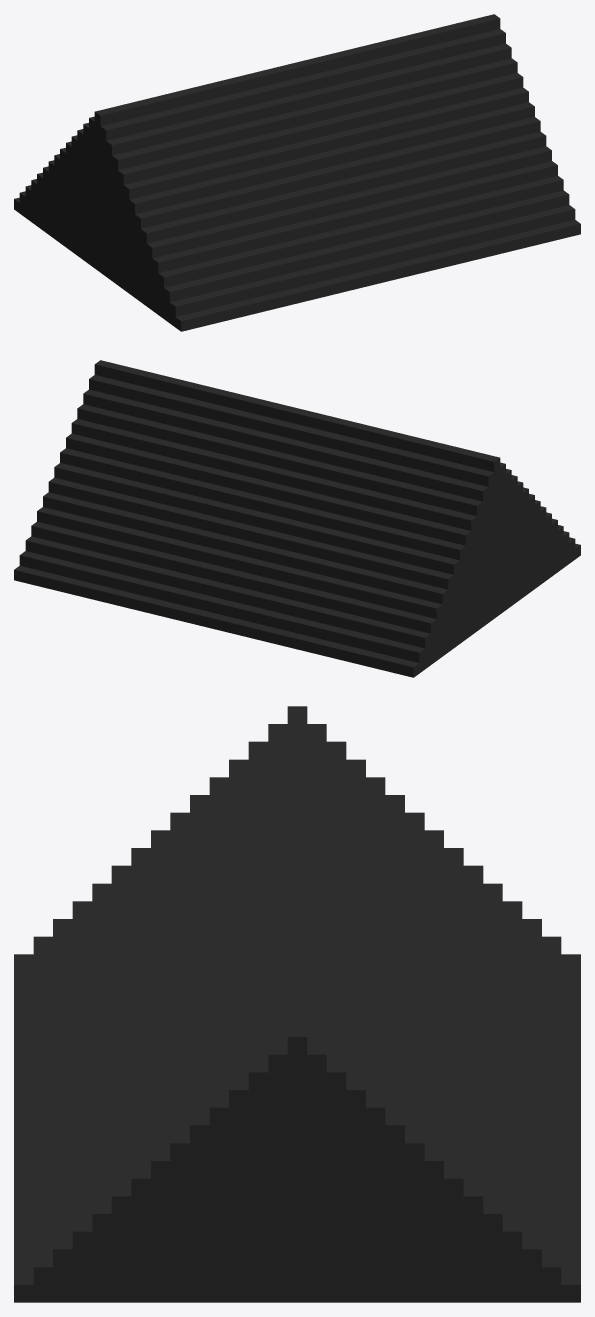
File: ConstructionMaterials-21.obj
The picture shows the model from 3 angles, top to bottom: view 1: azimuth 30°, elevation 25°; view 2: azimuth 150°, elevation 25°; view 3: azimuth 270°, elevation 25°; orthographic projection. The views are drawn at different scales.
Bounding box in the file's own units: 4 × 1.5 × 2.9.
Materials: 1 (1 with a texture image).
